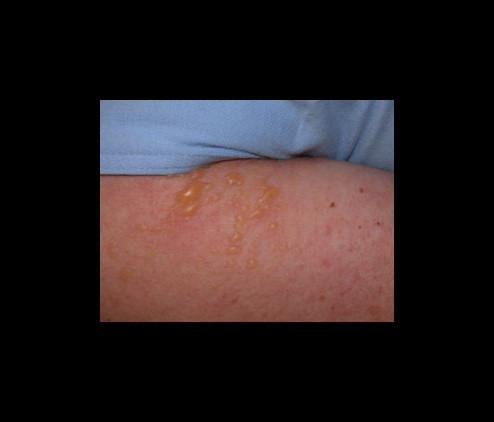SJS-TEN: (78, 131, 360, 311)
